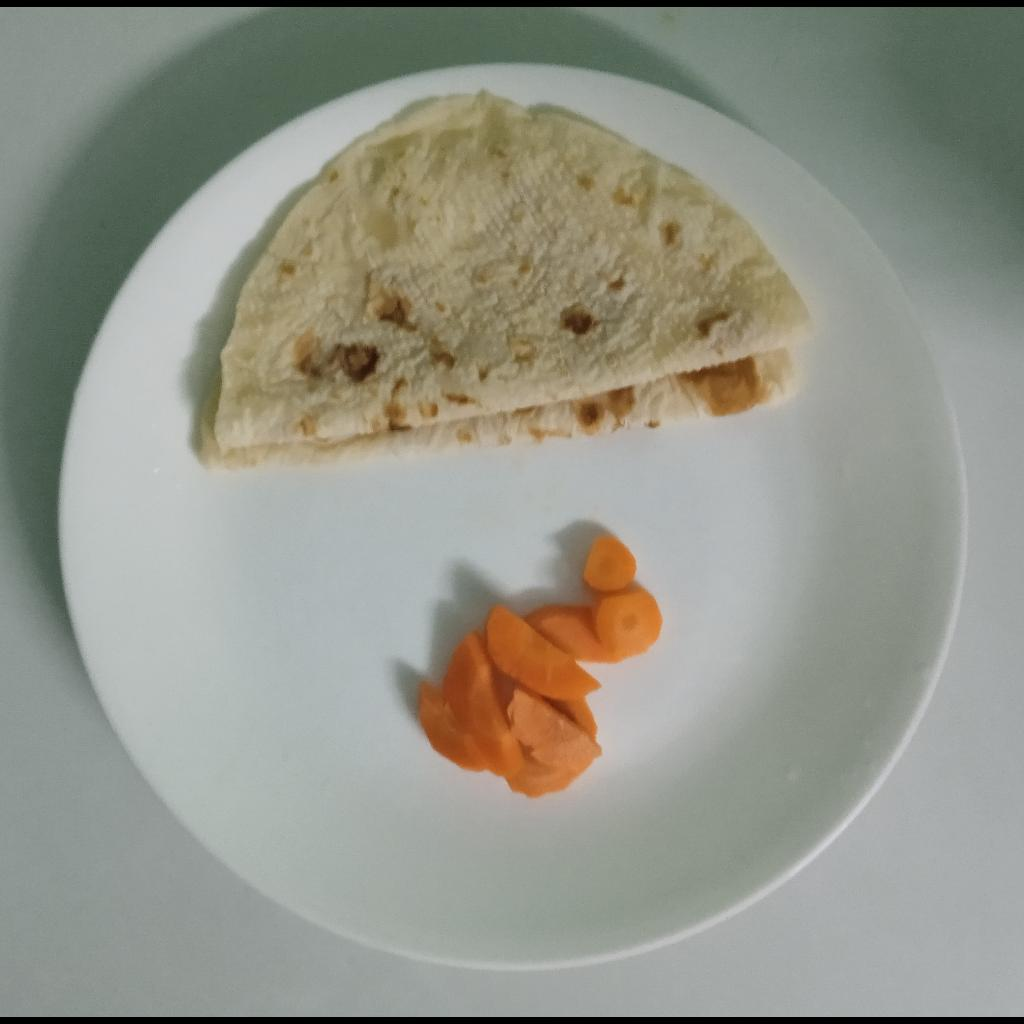carrot: (417, 533, 665, 797)
ruti: (198, 94, 817, 471)
